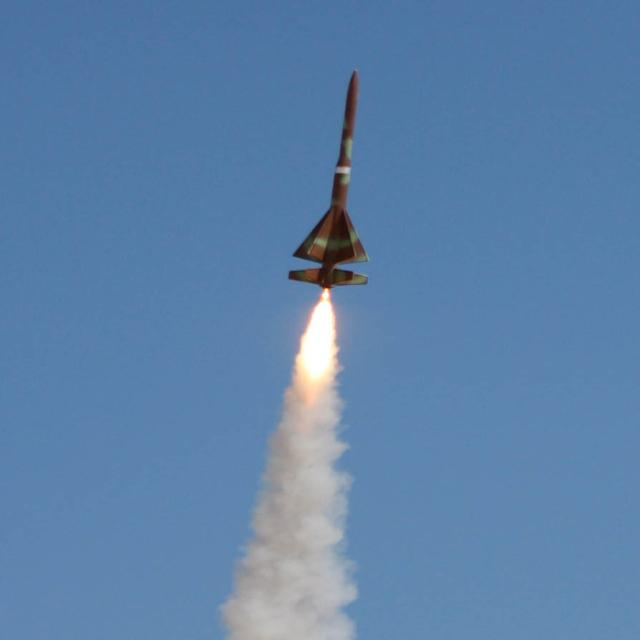Rocket: (288, 66, 372, 288)
